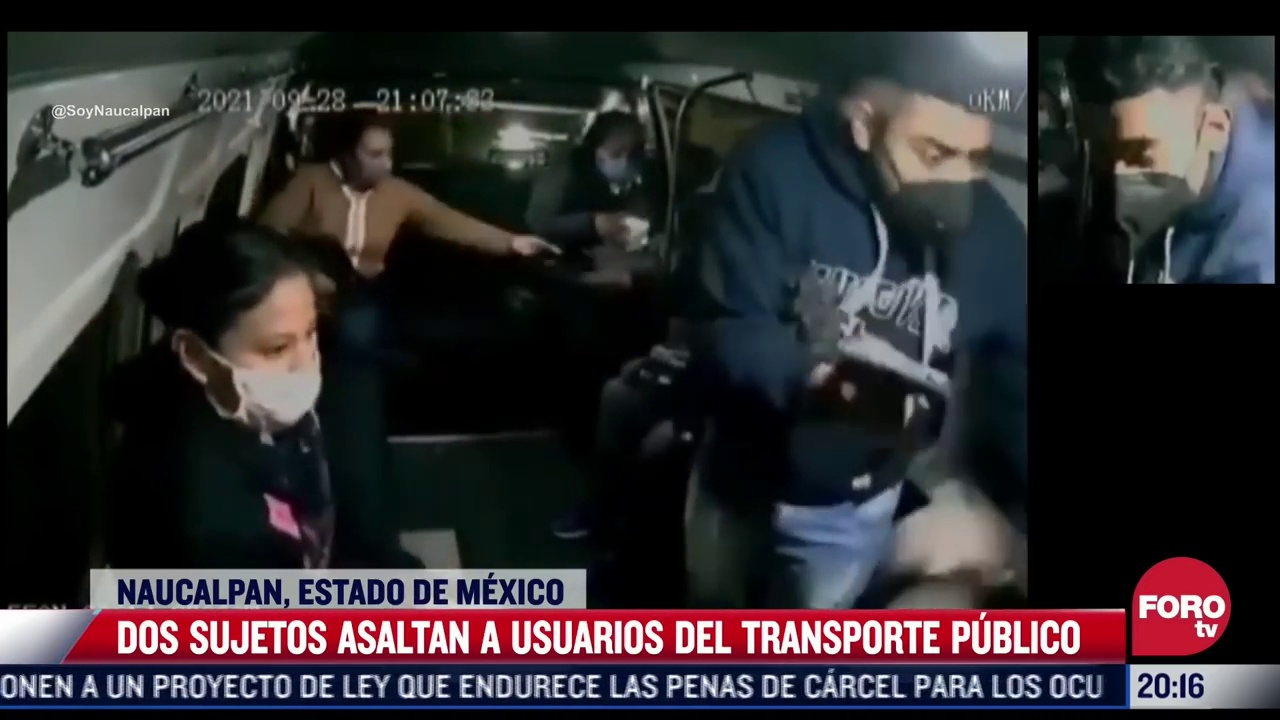pistol: (833, 335, 956, 405)
